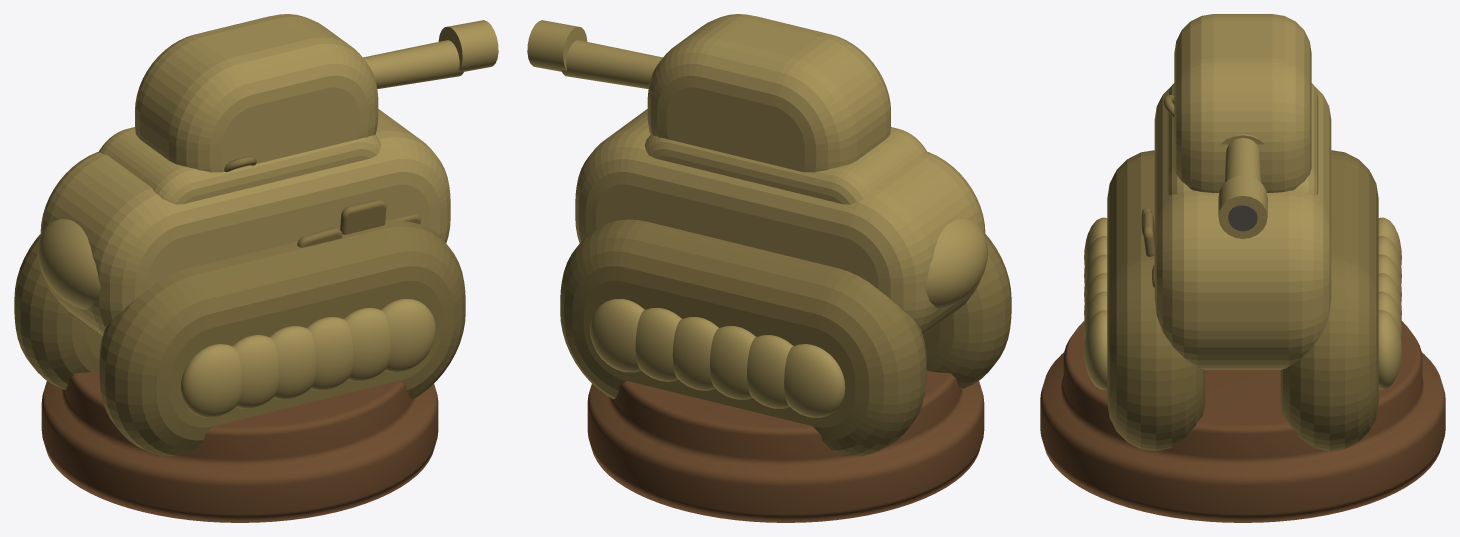
The model's file is ch5-piece-inflatable-tank.glb.
3 renders of one model, left to right at view 1: azimuth 30°, elevation 25°; view 2: azimuth 150°, elevation 25°; view 3: azimuth 270°, elevation 25°, orthographic. The views are drawn at different scales.
Parts seen in each view (by area): view 1: track (×2), base, hull, turret, wheel (×6), deck, hull_rear, gun_barrel, gun_muzzle, patch; view 2: track (×2), base, hull, turret, wheel (×6), deck, hull_rear, gun_barrel, gun_muzzle; view 3: base, track (×2), hull, turret, wheel (×12), gun_muzzle, deck, gun_barrel, gun_bore, patch.
Boxes of the visible parts, left/top/right/bottom form: track (×2): left=14, top=219, right=465, bottom=456; base: left=41, top=370, right=438, bottom=522; hull: left=40, top=109, right=450, bottom=335; turret: left=135, top=14, right=378, bottom=172; wheel (×6): left=180, top=299, right=435, bottom=417; deck: left=99, top=127, right=380, bottom=204; hull_rear: left=37, top=219, right=100, bottom=309; gun_barrel: left=363, top=40, right=464, bottom=88; gun_muzzle: left=438, top=20, right=498, bottom=71; patch: left=340, top=199, right=386, bottom=234; track (×2): left=560, top=219, right=1011, bottom=456; base: left=587, top=370, right=984, bottom=522; hull: left=575, top=109, right=985, bottom=335; turret: left=647, top=14, right=890, bottom=172; wheel (×6): left=590, top=299, right=845, bottom=417; deck: left=645, top=127, right=926, bottom=204; hull_rear: left=925, top=219, right=988, bottom=309; gun_barrel: left=561, top=40, right=662, bottom=88; gun_muzzle: left=527, top=20, right=587, bottom=71; base: left=1040, top=320, right=1445, bottom=522; track (×2): left=1107, top=150, right=1378, bottom=451; hull: left=1154, top=86, right=1331, bottom=369; turret: left=1174, top=14, right=1311, bottom=192; wheel (×12): left=1084, top=217, right=1401, bottom=389; gun_muzzle: left=1218, top=175, right=1267, bottom=238; deck: left=1167, top=83, right=1318, bottom=195; gun_barrel: left=1224, top=138, right=1261, bottom=182; gun_bore: left=1228, top=204, right=1257, bottom=231; patch: left=1143, top=212, right=1154, bottom=256.
Bounding box in the file's own units: 0.1586 × 0.1375 × 0.124.
